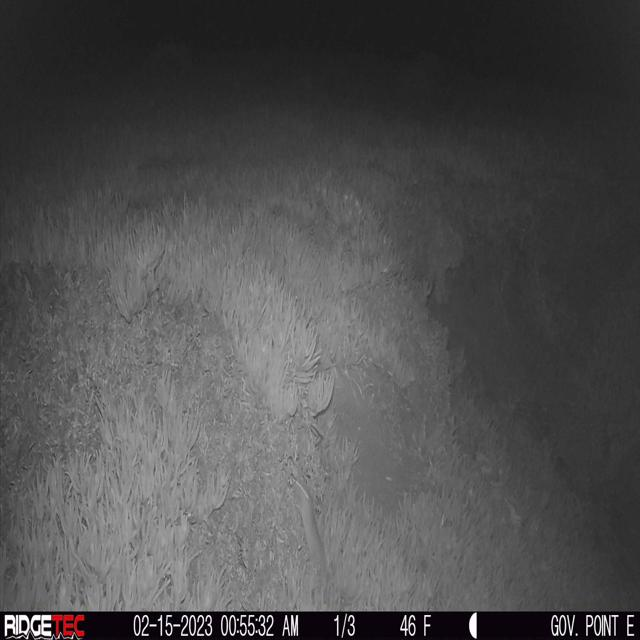rodent: (287, 468, 325, 584)
